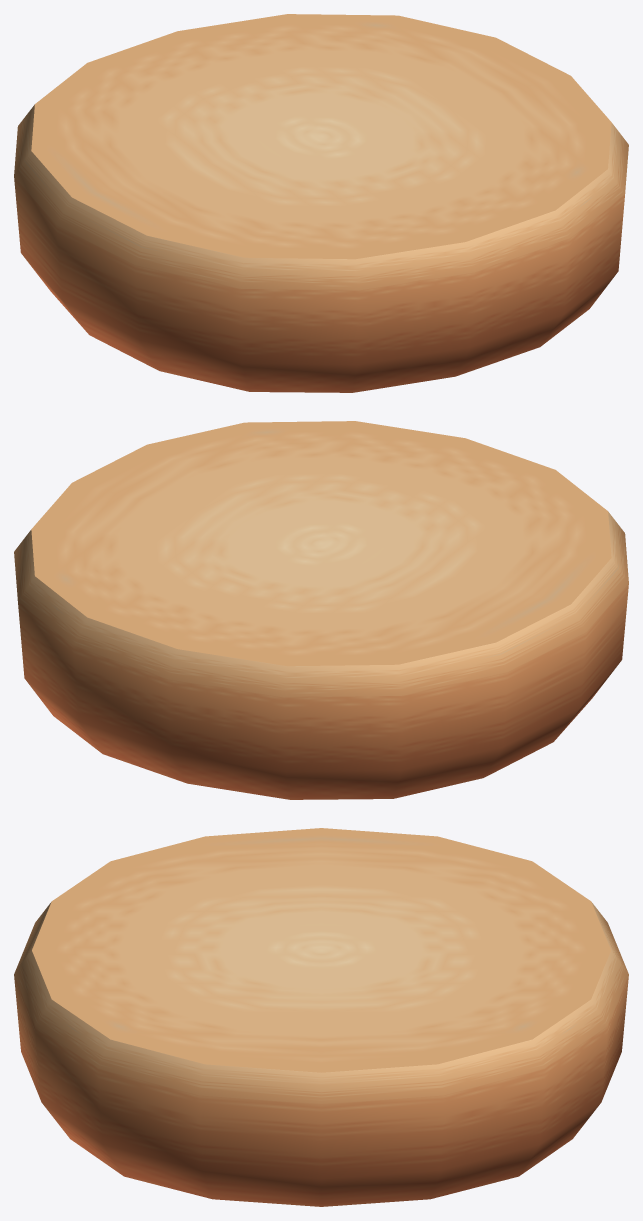
Rendered from food_ingredient_bun_bottom.gltf.
3 views of the same model, one above another, from view 1: azimuth 30°, elevation 25°; view 2: azimuth 150°, elevation 25°; view 3: azimuth 270°, elevation 25° (orthographic).
Visible parts, largest first — view 1: food_ingredient_bun_bottom; view 2: food_ingredient_bun_bottom; view 3: food_ingredient_bun_bottom.
Part boxes in pixels (x1,y1,x2,y2): food_ingredient_bun_bottom: (14, 14, 628, 392); food_ingredient_bun_bottom: (14, 421, 628, 799); food_ingredient_bun_bottom: (14, 828, 628, 1206).
Bounding box in the file's own units: 0.6938 × 0.2 × 0.6938.
1 material, 1 textured.
